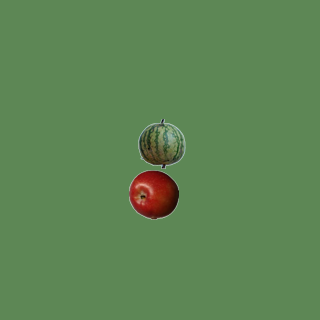Apple Braeburn: (128, 169, 178, 219)
Watermelon: (136, 118, 186, 168)
